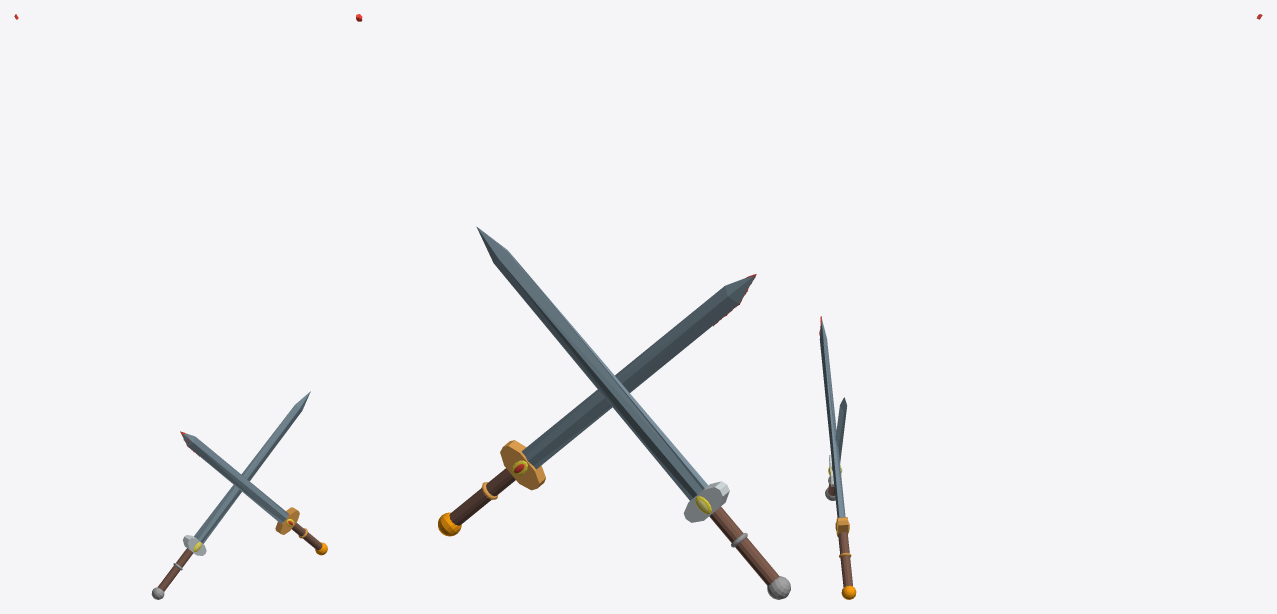
Rendered from Swords.glb.
3 renders of one model, left to right at view 1: azimuth 30°, elevation 25°; view 2: azimuth 150°, elevation 25°; view 3: azimuth 270°, elevation 25°, orthographic. The views are drawn at different scales.
Parts seen in each view (by area): view 1: group1954418448; view 2: group1954418448; view 3: group1954418448.
Part boxes in pixels (x1,y1,x2,y2): group1954418448: (151,391,327,599); group1954418448: (438,226,790,599); group1954418448: (819,316,856,599).
Bounding box in the file's own units: 1.07 × 2.49 × 1.95.
